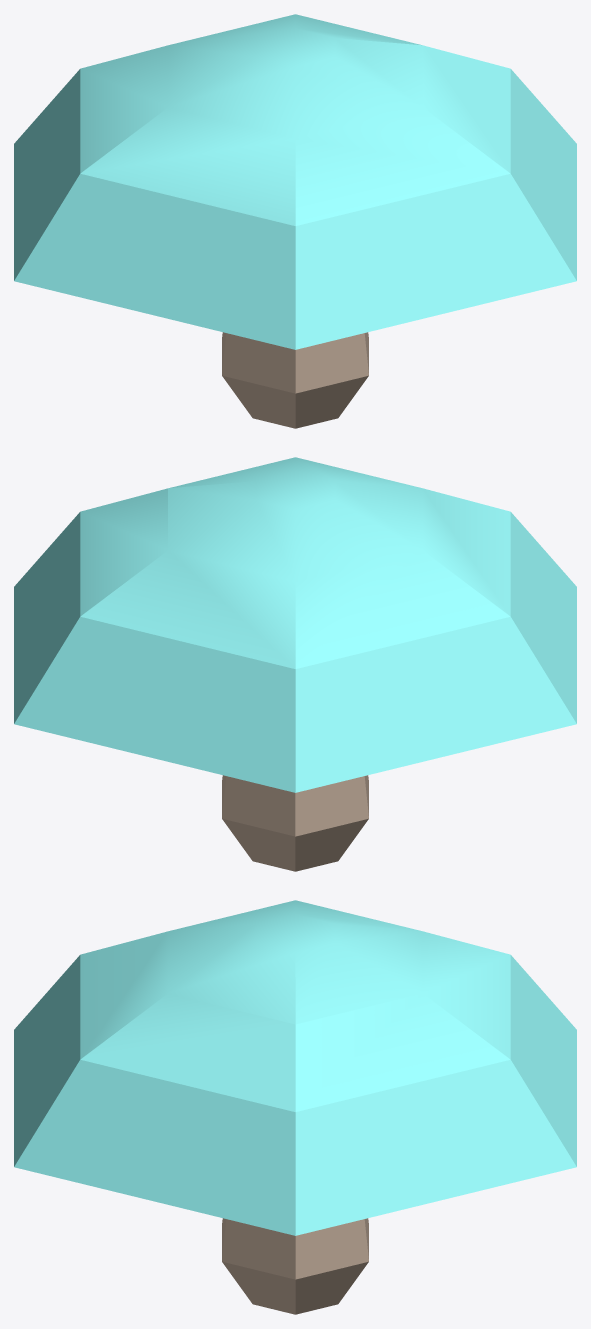
File: Vegetation_Mushroom_Blue_01.fbx
The picture shows the model from 3 angles, top to bottom: view 1: azimuth 30°, elevation 25°; view 2: azimuth 150°, elevation 25°; view 3: azimuth 270°, elevation 25°; orthographic projection.
Visible parts, largest first — view 1: Vegetation_Mushroom_Blue_01; view 2: Vegetation_Mushroom_Blue_01; view 3: Vegetation_Mushroom_Blue_01.
Part boxes in pixels (left/top/right/bottom): Vegetation_Mushroom_Blue_01: left=14, top=14, right=576, bottom=428; Vegetation_Mushroom_Blue_01: left=14, top=457, right=576, bottom=871; Vegetation_Mushroom_Blue_01: left=14, top=900, right=576, bottom=1314.
Size of the model in its own units: 543 by 332 by 471.
